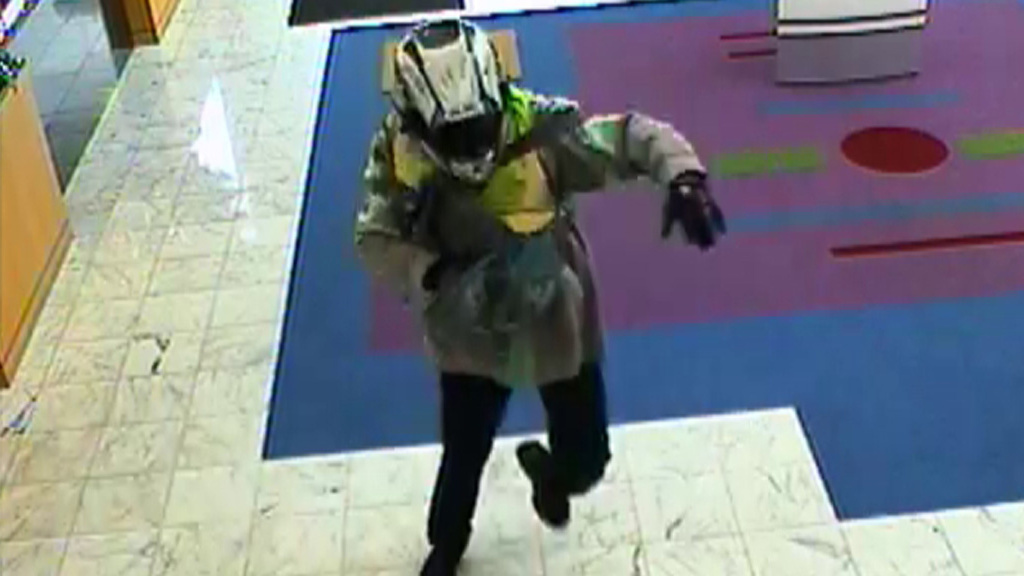helmet: (376, 9, 526, 195)
